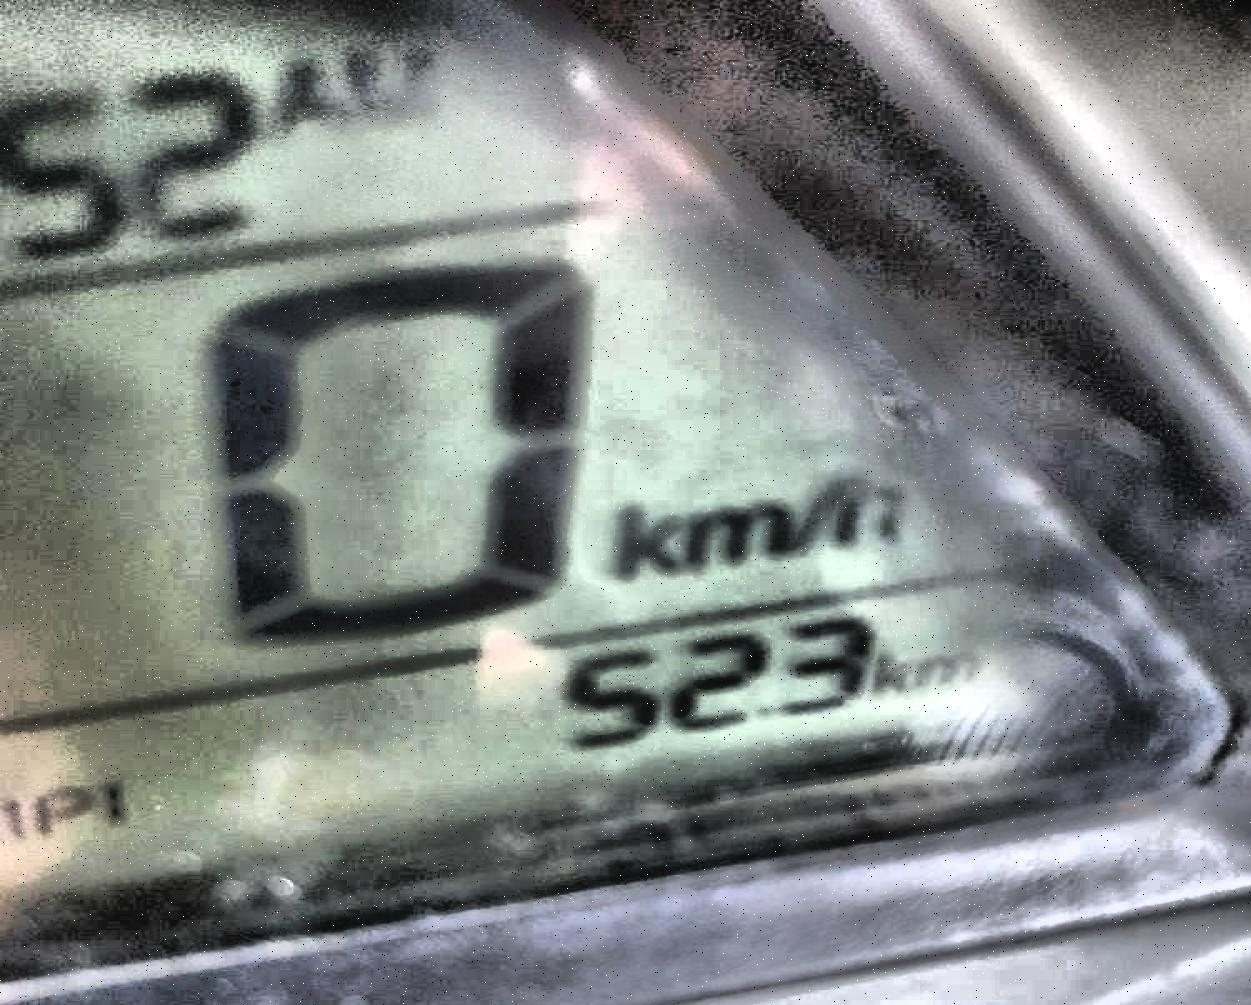-: (758, 700, 774, 729)
0: (205, 267, 586, 641)
1: (96, 772, 131, 828)
2: (131, 63, 266, 238), (668, 629, 759, 732)
3: (775, 616, 866, 715)
5: (1, 86, 125, 260), (556, 647, 658, 746)
X: (346, 45, 445, 122), (270, 47, 346, 143), (684, 501, 793, 566), (838, 461, 906, 552), (608, 499, 683, 580), (28, 767, 93, 850), (791, 468, 836, 562), (913, 647, 984, 688), (871, 641, 910, 696), (0, 787, 28, 843)
